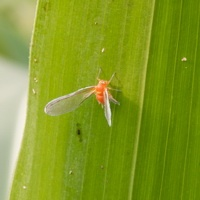insect: (44, 72, 119, 125)
